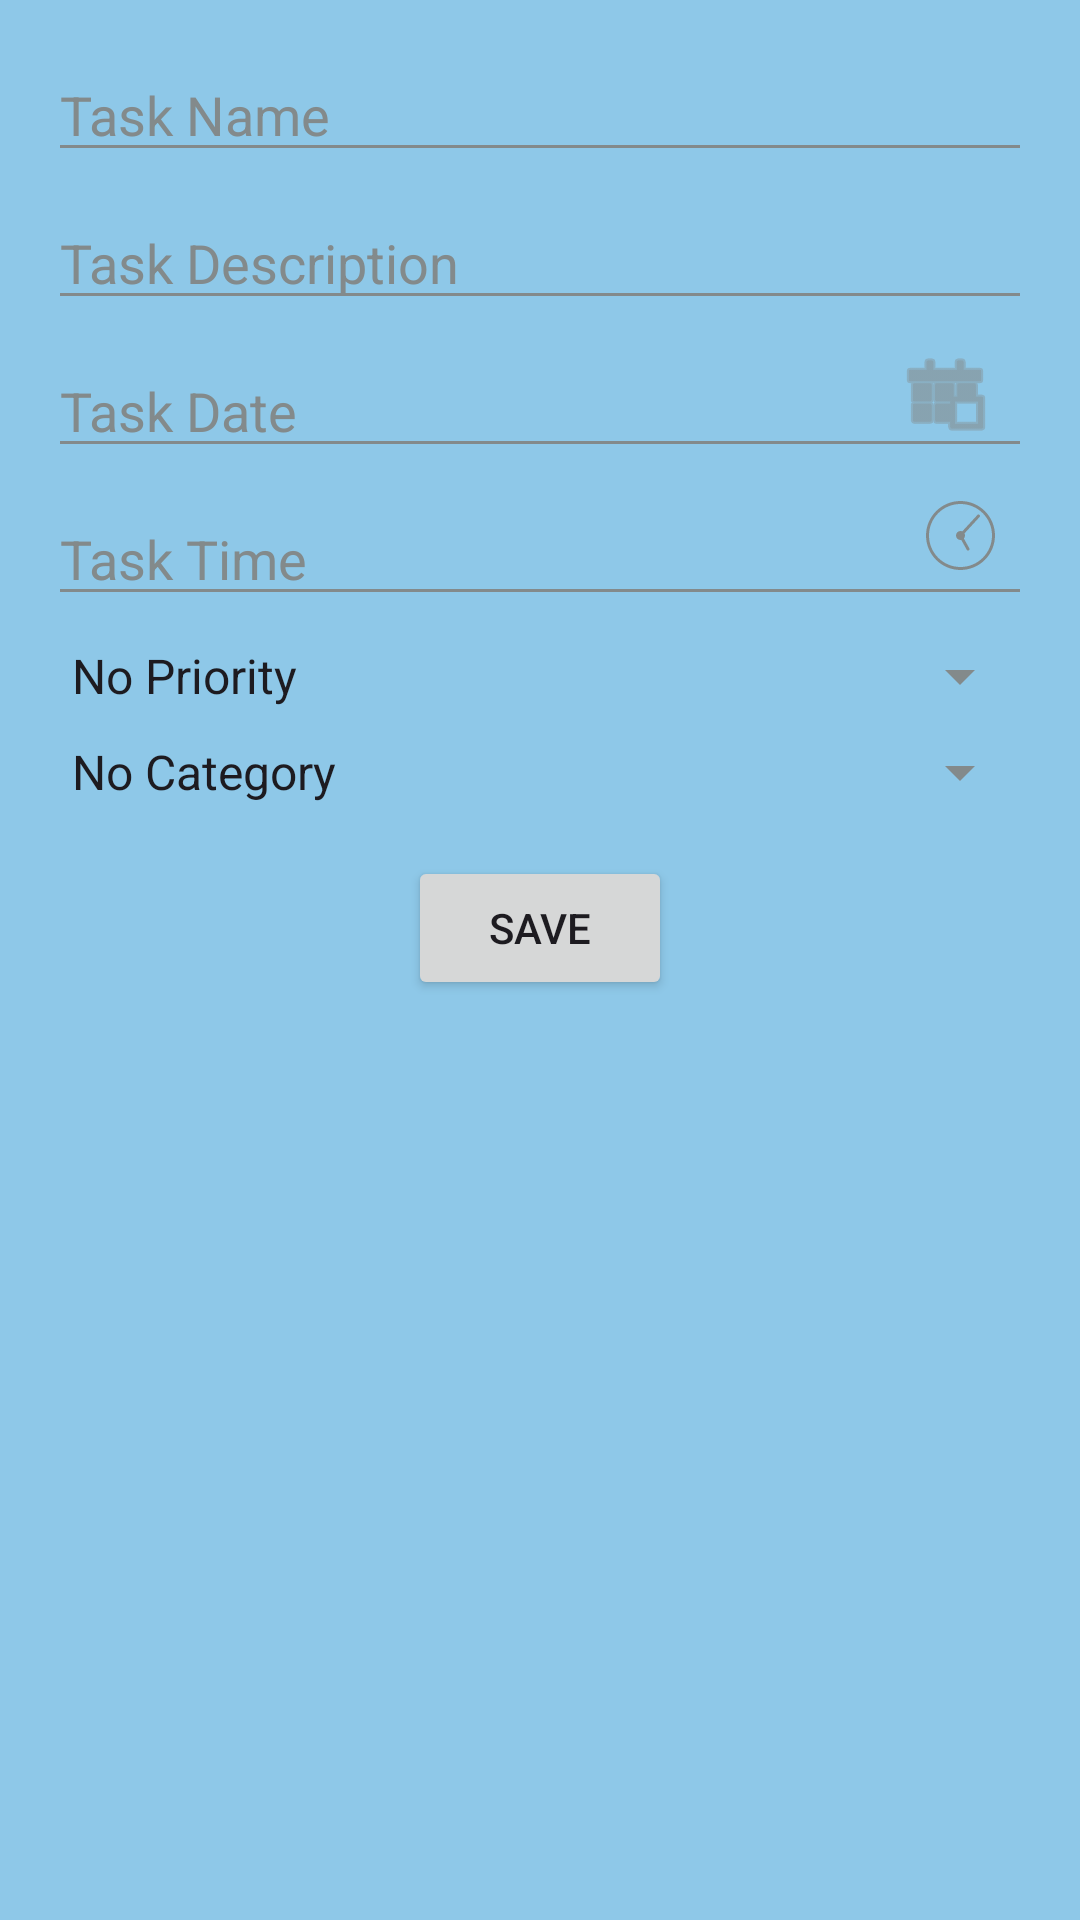

Locate icon controls on the screen. Image size 1080x1920, boxes as (left=x1, top=y1, right=x2, bottom=y2).
clock: (left=926, top=501, right=995, bottom=570)
today: (left=907, top=359, right=985, bottom=430)
